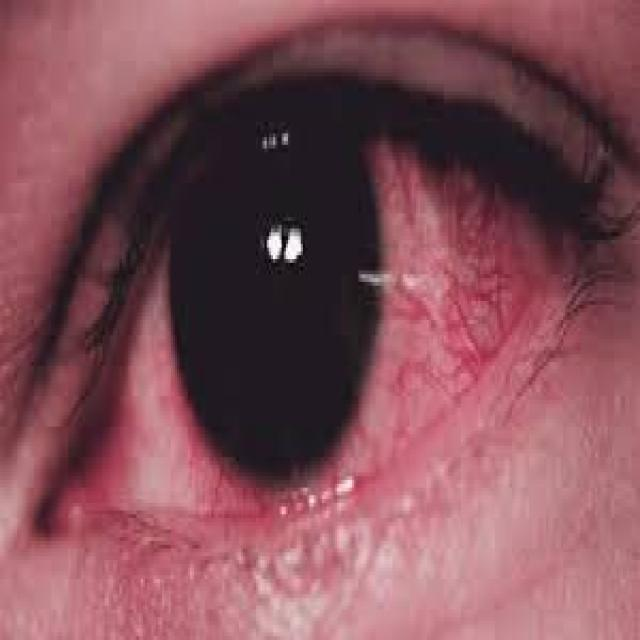Conjunctivitis: (25, 132, 568, 528)
